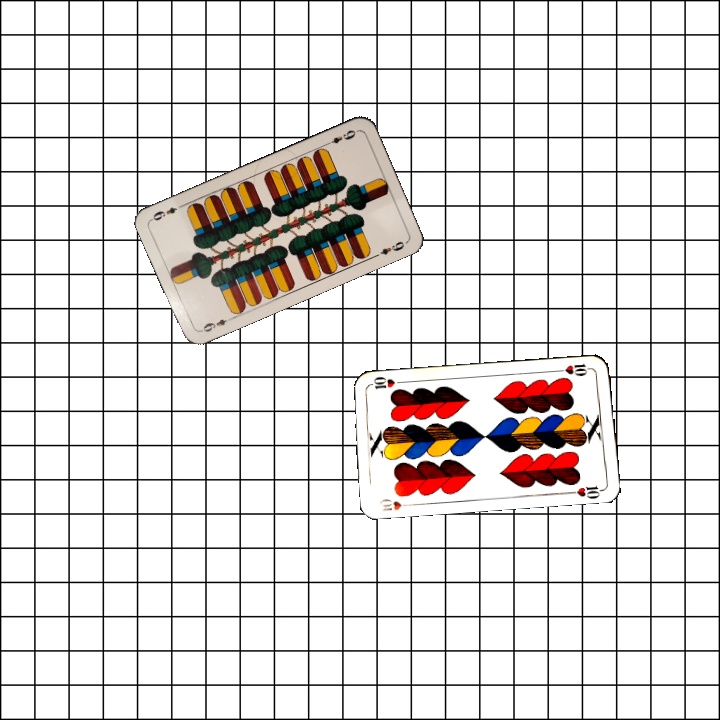E9: (196, 313, 235, 335), (321, 126, 358, 148)
H10: (554, 360, 595, 379), (376, 495, 416, 514)
